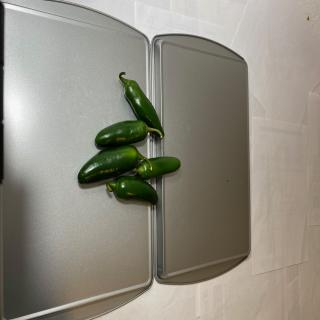Chilli: (119, 71, 164, 139), (77, 144, 151, 184), (94, 120, 163, 148), (132, 156, 180, 180)
Tomato: (106, 175, 159, 206)
